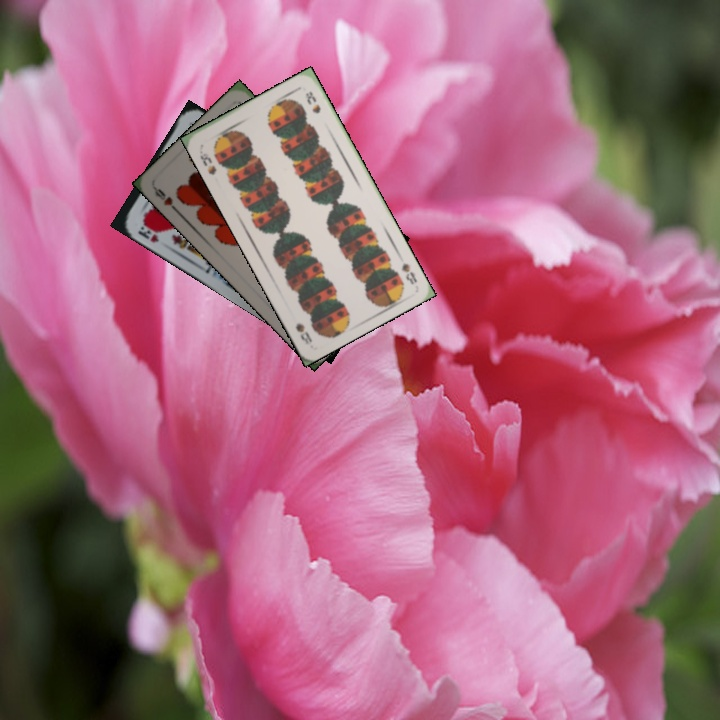H9: (150, 184, 182, 216)
HK: (133, 222, 162, 245)
S8: (195, 143, 219, 177), (397, 259, 420, 287)
